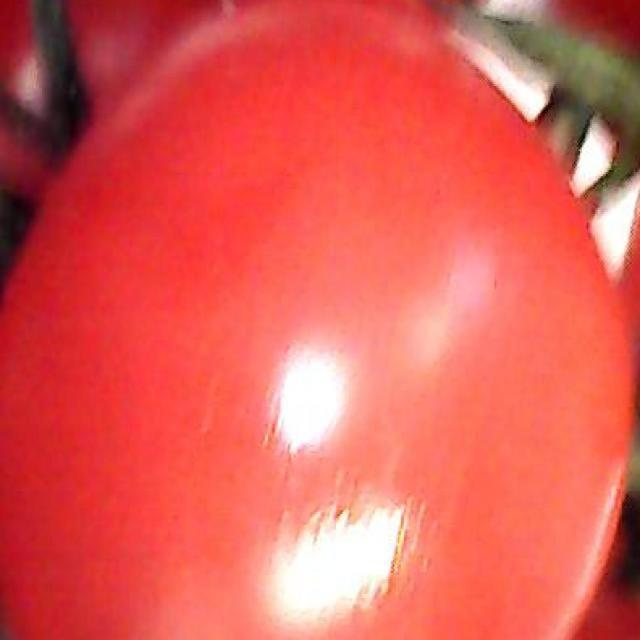Healthy Fruit: (1, 20, 426, 427)
